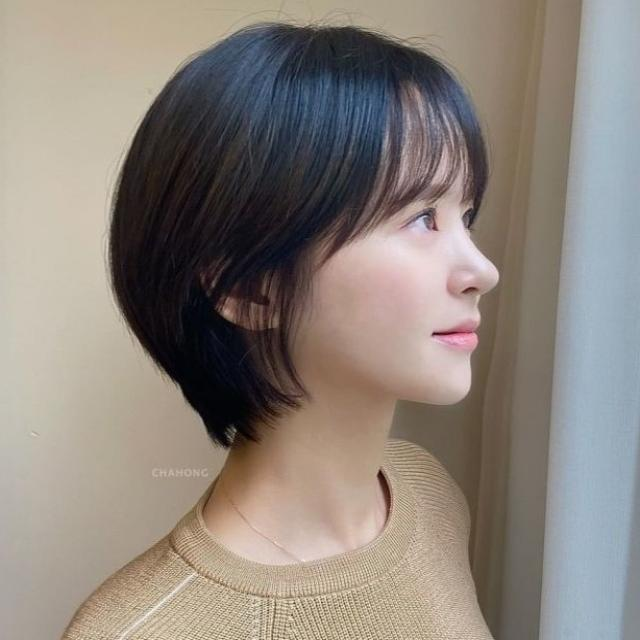Nonhelmet: (124, 16, 511, 428)
